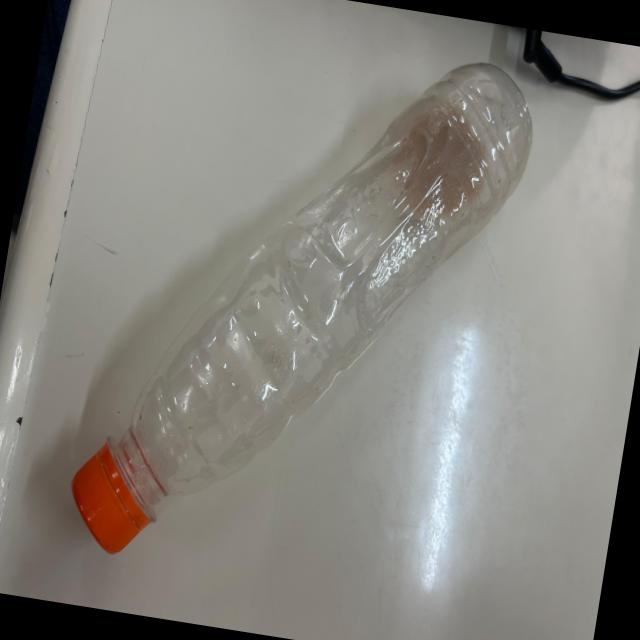inorganic: (60, 11, 542, 606)
